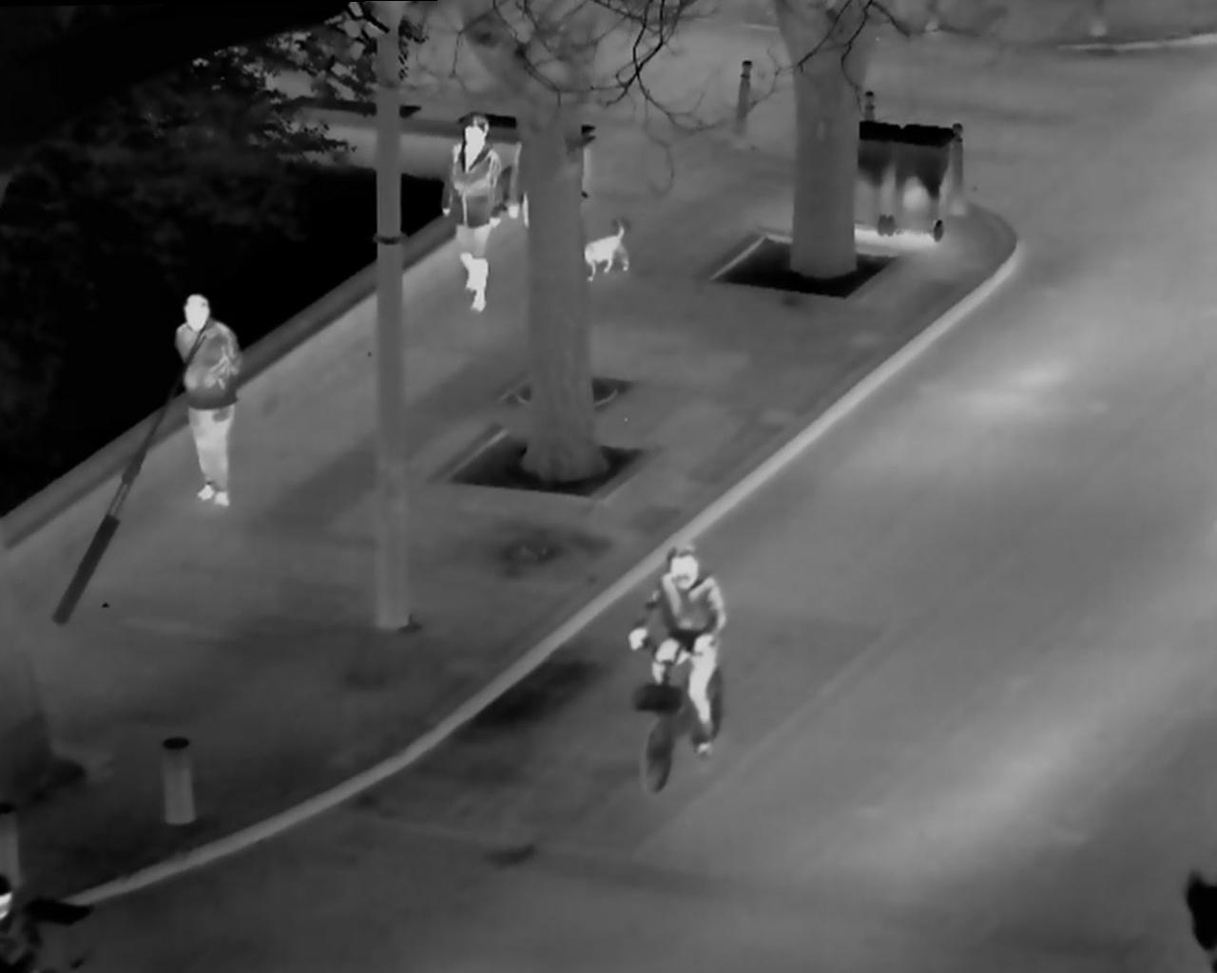person: (627, 534, 736, 810), (146, 274, 252, 515), (431, 104, 502, 321)
